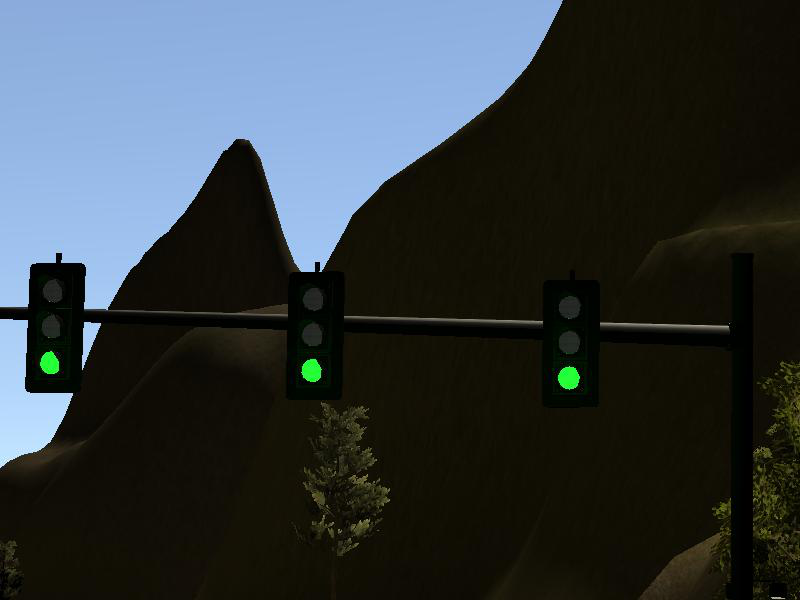green: (543, 279, 598, 406), (290, 272, 343, 398), (30, 264, 81, 393)
